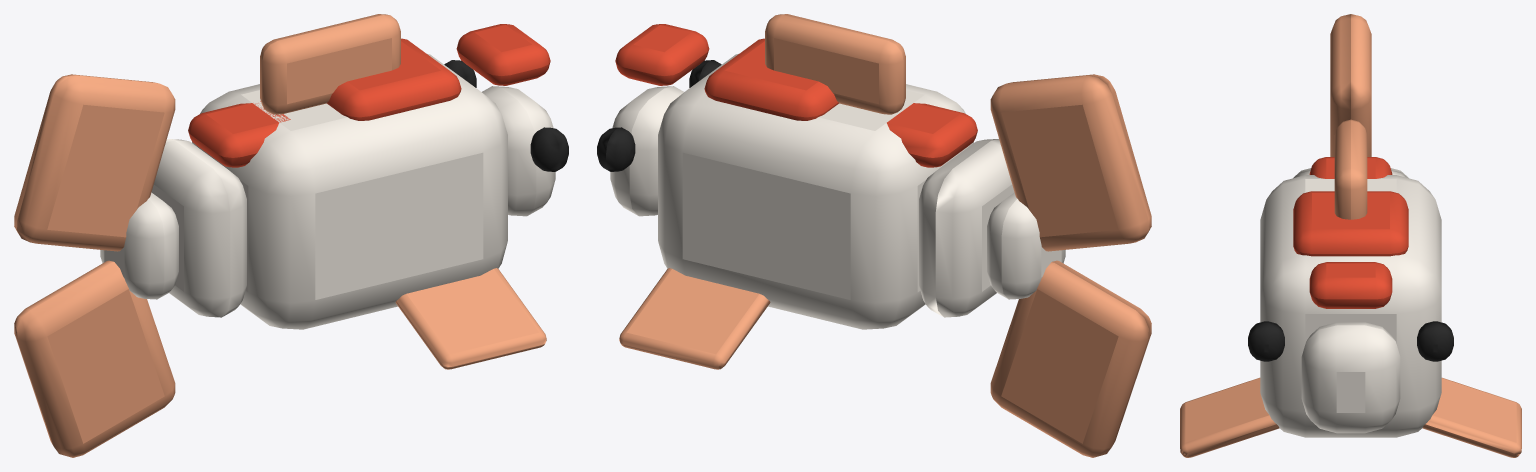
Rendered from koi.glb.
The picture shows the model from 3 angles, left to right: view 1: azimuth 30°, elevation 25°; view 2: azimuth 150°, elevation 25°; view 3: azimuth 270°, elevation 25°; orthographic projection. The views are drawn at different scales.
Parts seen in each view (by area): view 1: body_main; view 2: body_main; view 3: body_main.
Part boxes in pixels (left/top/right/bottom): body_main: left=14, top=14, right=568, bottom=457; body_main: left=597, top=14, right=1151, bottom=457; body_main: left=1180, top=14, right=1521, bottom=457.
Size of the model in its own units: 0.8439 by 0.5815 by 0.5183.
